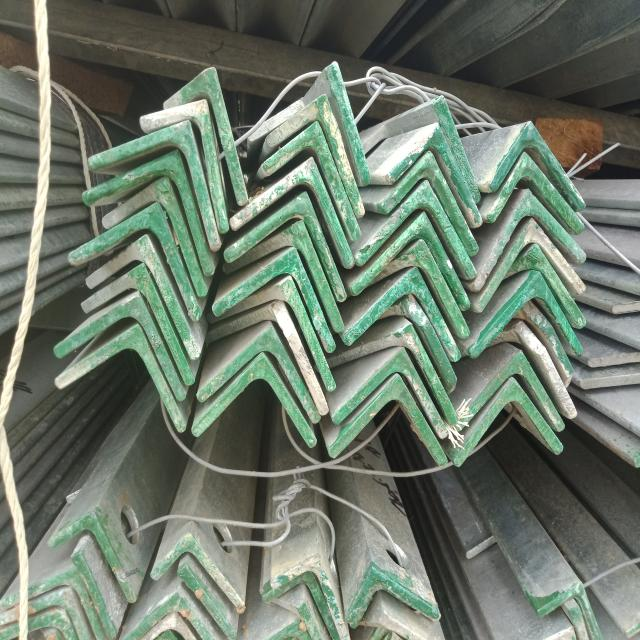metal-angles: (91, 118, 221, 250), (85, 151, 214, 274), (69, 202, 199, 322), (56, 293, 185, 403), (57, 322, 187, 431), (205, 302, 328, 417), (87, 234, 198, 360), (82, 262, 193, 387), (326, 323, 459, 427), (232, 156, 353, 266), (225, 193, 347, 301), (228, 221, 346, 332), (213, 249, 333, 353), (102, 176, 205, 297), (198, 324, 320, 426), (356, 180, 476, 281), (265, 94, 363, 215), (353, 210, 468, 313), (263, 121, 361, 241), (193, 353, 316, 448), (164, 64, 248, 203), (344, 267, 461, 365), (140, 101, 228, 231), (328, 373, 447, 467), (330, 347, 448, 441), (476, 190, 587, 288), (379, 149, 478, 256), (477, 219, 585, 312), (387, 123, 481, 227), (469, 272, 583, 357), (455, 380, 564, 466), (456, 350, 565, 433), (488, 118, 586, 209), (47, 511, 138, 605), (488, 151, 584, 235), (151, 533, 245, 612), (270, 552, 351, 640), (347, 567, 441, 631), (28, 567, 107, 639), (262, 571, 340, 639), (123, 590, 216, 640), (538, 580, 604, 640), (29, 587, 88, 639), (28, 609, 76, 640)
